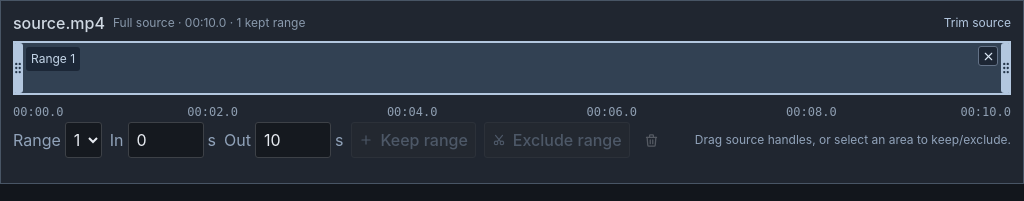
Test: source-context editor › supports excluding a middle range from video and retains the entire source row
Press the mouse on the element with class "source-strip" at (512, 68), box [13,41,1011,95]
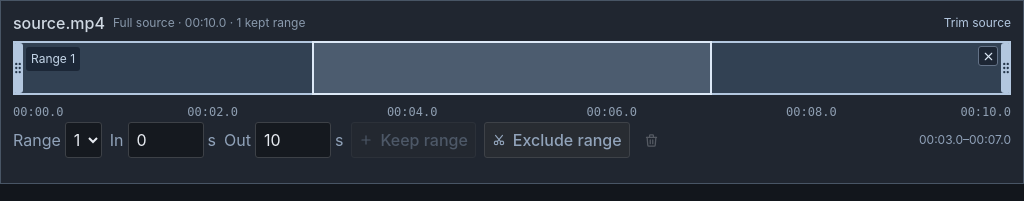
Click the button "Exclude range" at (557, 140), box [484,122,630,158]
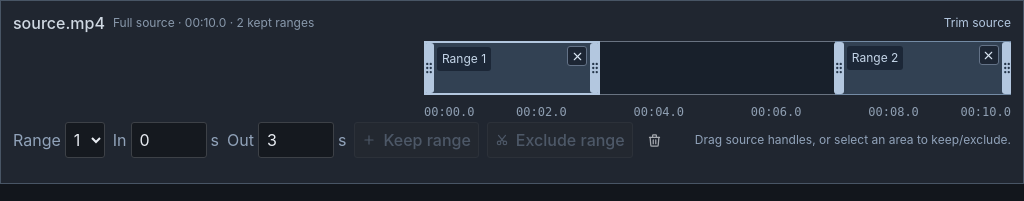
Check: the text "Full source · 00:10.0 · 2 kept ranges" is shown, box [113,14,314,32]
Check: the number of elements with class "excluded-source" is 1, box [600,41,835,95]
Check: the button "Range 2" is shown, box [847,46,904,70]
